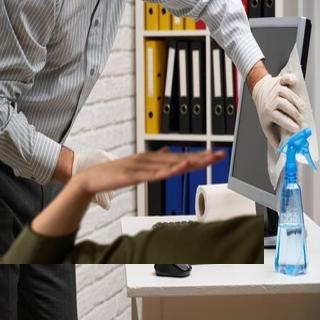WAIT: (69, 144, 229, 195)
